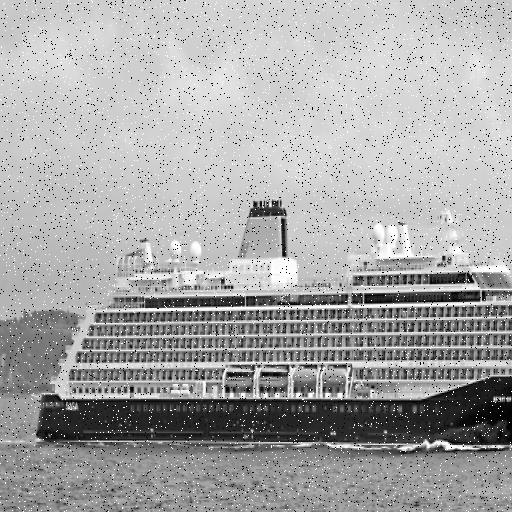cruises: (35, 198, 512, 460)
